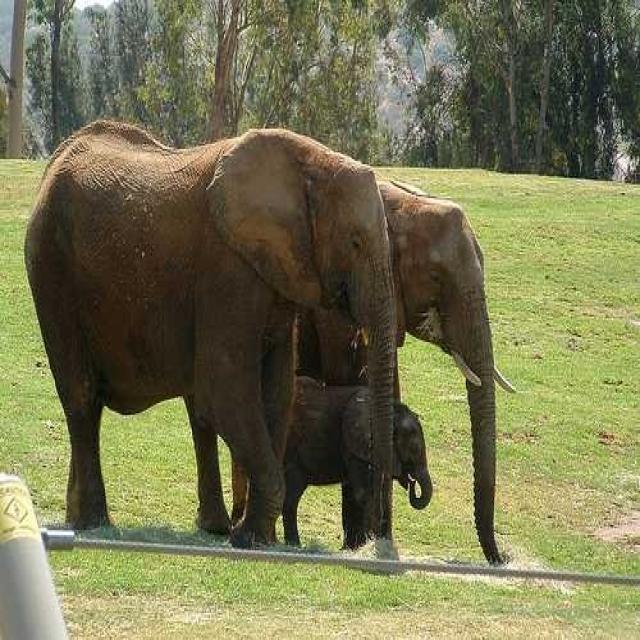Elephant: (23, 117, 402, 550)
